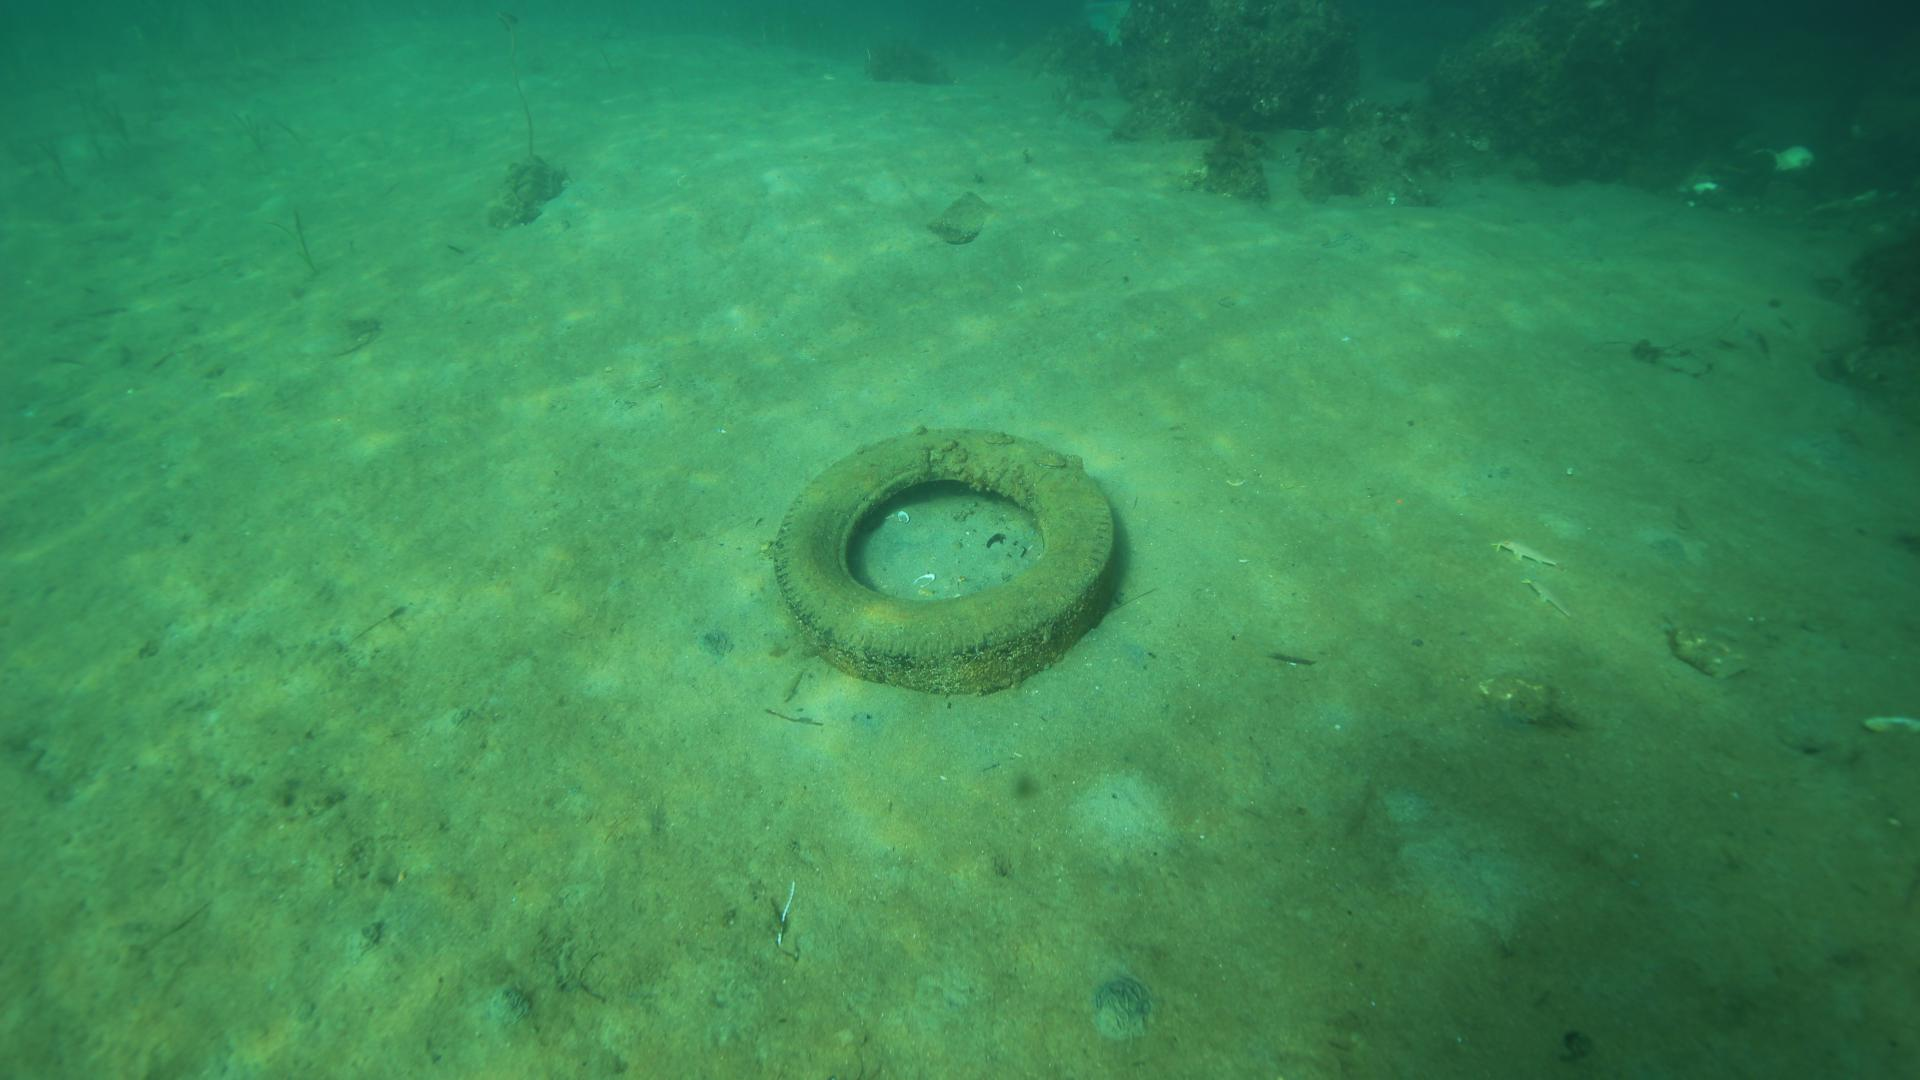tire: (774, 421, 1117, 700)
